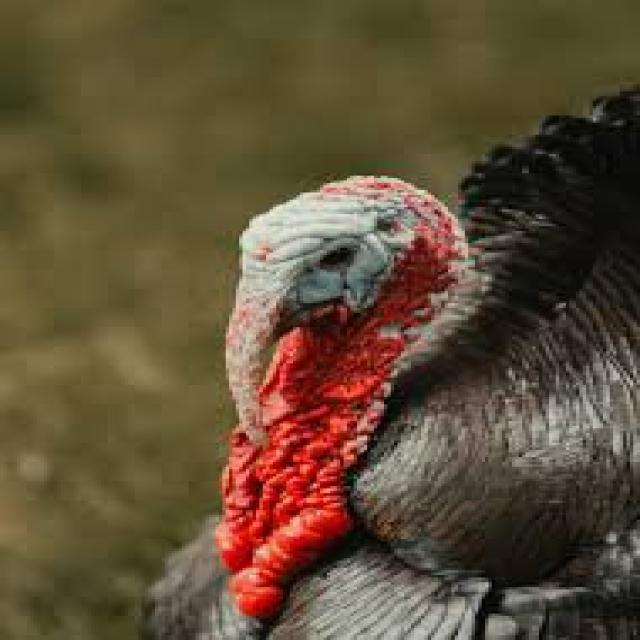Turkey: (172, 74, 640, 640)
